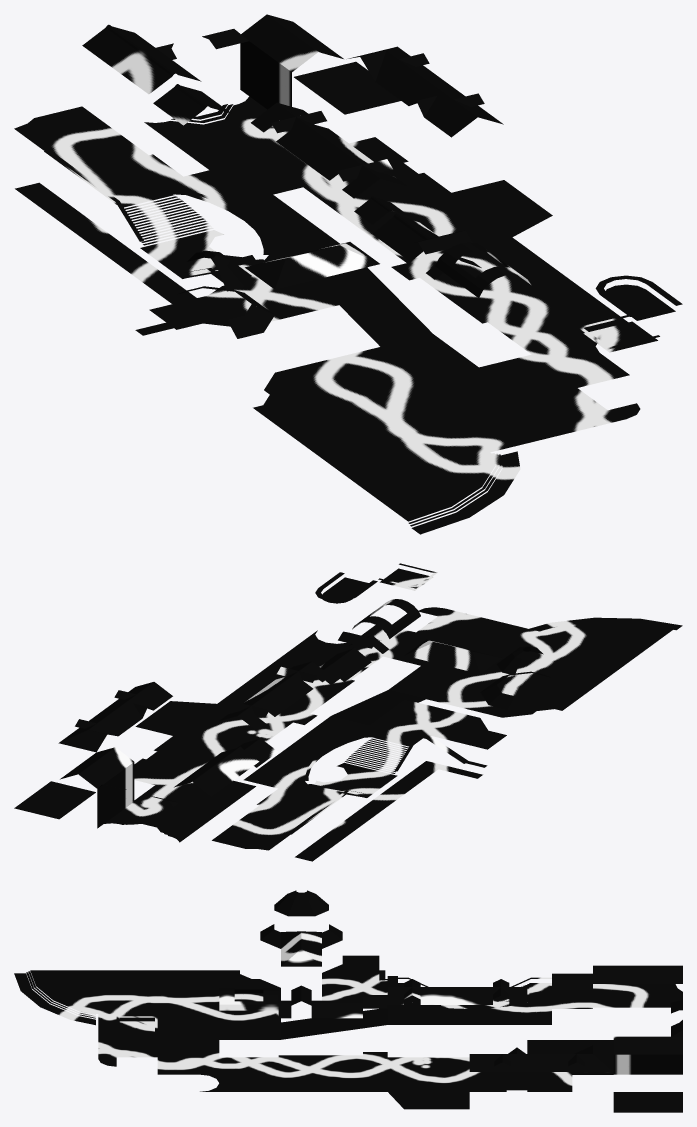
File: pollution.dae
The picture shows the model from 3 angles, top to bottom: view 1: azimuth 30°, elevation 25°; view 2: azimuth 150°, elevation 25°; view 3: azimuth 270°, elevation 25°; orthographic projection. The views are drawn at different scales.
Visible parts, largest first — view 1: m0; view 2: m0; view 3: m0.
Part boxes in pixels (x1,y1,x2,y2): m0: (14,14,682,534); m0: (14,563,682,861); m0: (14,890,682,1112).
Bounding box in the file's own units: 8192 × 2302 × 16292.
2 materials, 2 textured.
